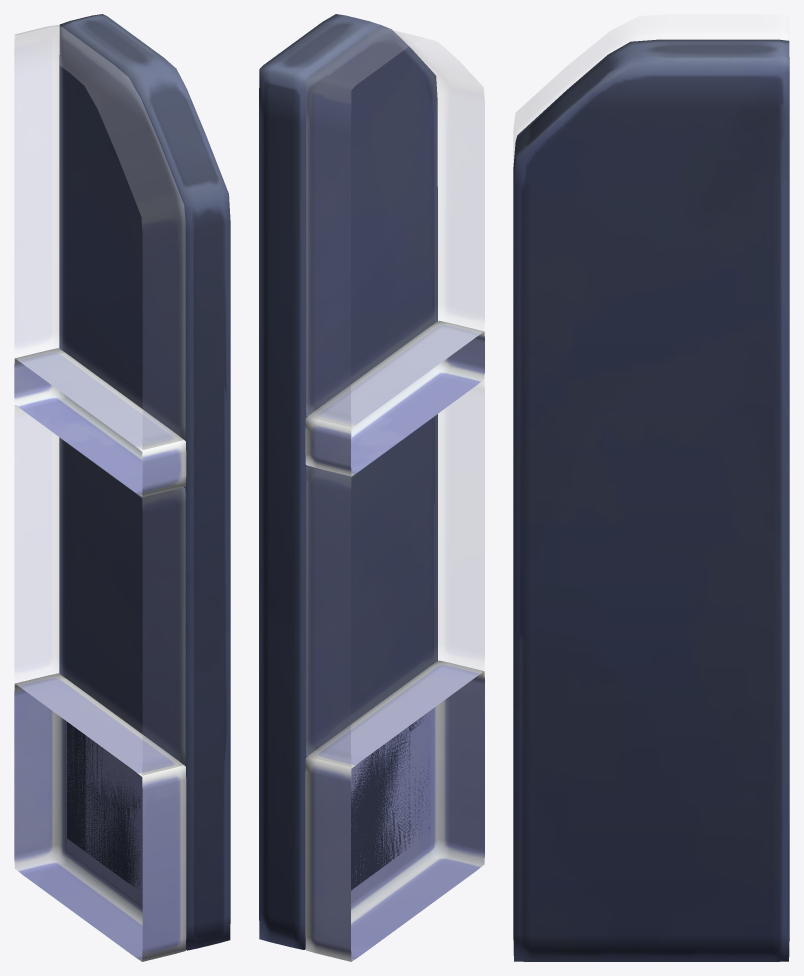
Rendered from LP_ShowcaseWallEnd.fbx.
3 renders of one model, left to right at view 1: azimuth 30°, elevation 25°; view 2: azimuth 150°, elevation 25°; view 3: azimuth 270°, elevation 25°, orthographic. The views are drawn at different scales.
Visible parts, largest first — view 1: LP_ShowcaseWallEnd; view 2: LP_ShowcaseWallEnd; view 3: LP_ShowcaseWallEnd.
Part boxes in pixels (<box>): LP_ShowcaseWallEnd: <box>14,14,230,961</box>; LP_ShowcaseWallEnd: <box>259,14,484,961</box>; LP_ShowcaseWallEnd: <box>513,14,789,961</box>.
Size of the model in its own units: 20 by 180 by 50.
